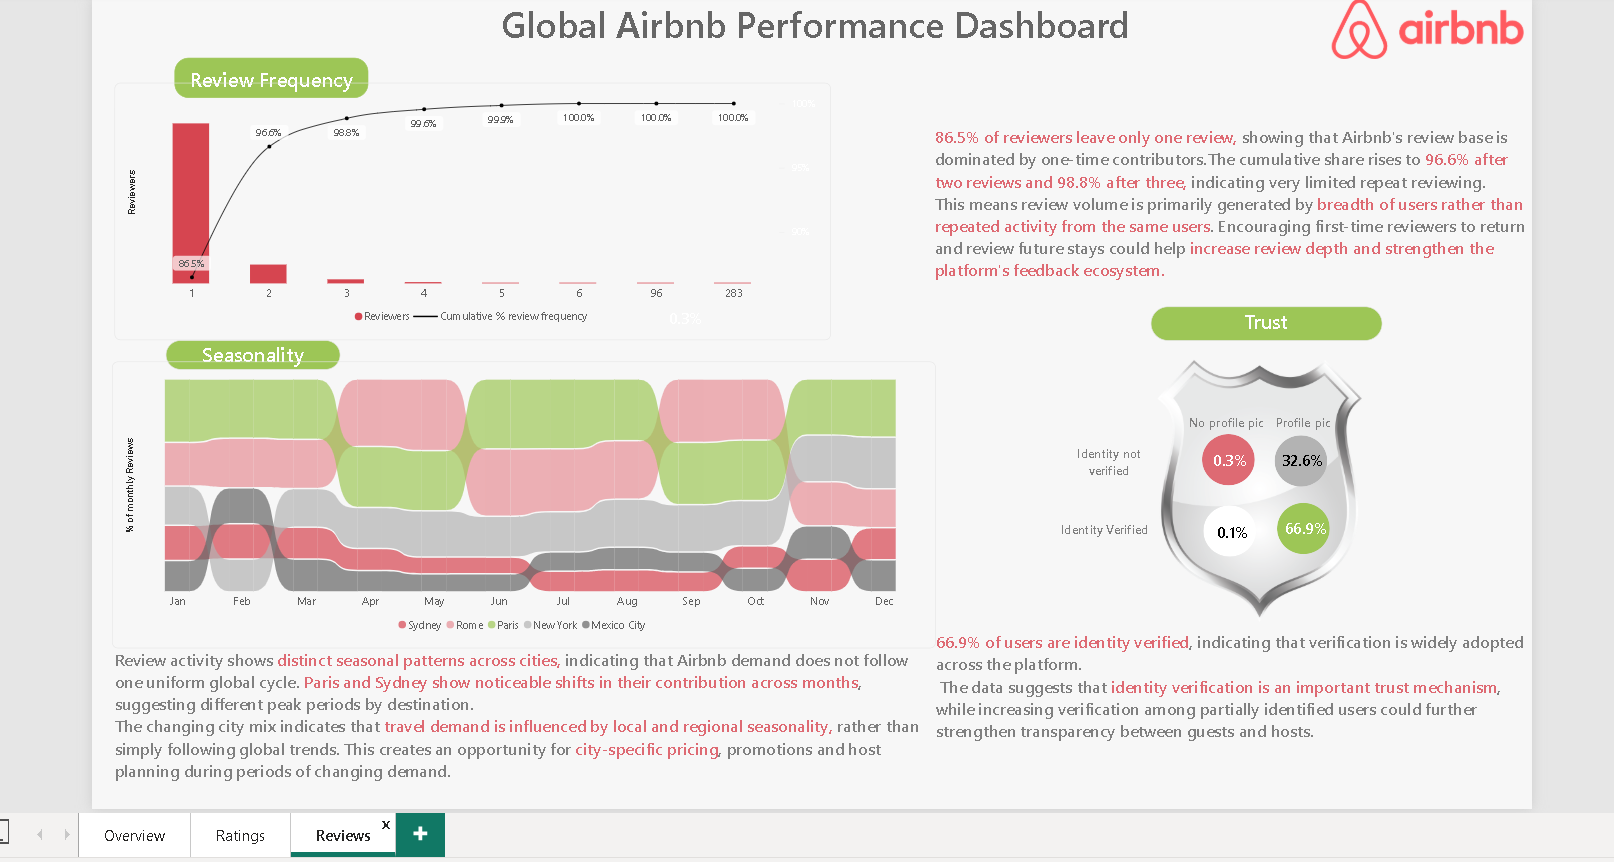

What the dashboard file says about the page in this screenshot:
{"tool":"powerbi","page":{"name":"Reviews","canvas":[1920,1080],"ordinal":2},"visuals":[{"type":"textbox","box":[10,0,1909,79],"z":0},{"type":"group","id":"g1","title":"Group 2","box":[1470.4,580.4,91.6,68.6],"z":0,"group":"g7"},{"type":"shape","box":[1478.6,580.4,70.5,68.6],"z":0,"group":"g1"},{"type":"group","id":"g2","title":"Group 1","box":[1411,409.8,308.8,45.6],"z":500},{"type":"cardVisual","fields":{"Data":["Listings.NotVerified_noprofile%"]},"box":[751.1,394.4,78.9,60.1],"z":1000},{"type":"textbox","box":[1411,409.8,308.8,45.6],"z":1000,"group":"g2"},{"type":"textbox","box":[98.3,455,233.2,39],"z":1000,"group":"g6"},{"type":"cardVisual","fields":{"Data":["Listings.NotVerified_noprofile%"]},"box":[1470.4,581.5,91.6,67.5],"z":1000,"group":"g1"},{"type":"group","id":"g3","title":"Group 3","box":[1555.6,581.6,114.8,68.6],"z":1000,"group":"g7"},{"type":"textbox","box":[110,78.3,258.3,53.3],"z":2000},{"type":"group","id":"g4","title":"Group 4","box":[1564.6,672.7,103.2,68.6],"z":2000,"group":"g7"},{"type":"group","id":"g5","title":"Group 5","box":[1473,675.2,91.6,68.6],"z":3000,"group":"g7"},{"type":"lineStackedColumnComboChart","fields":{"Category":["Reviews.Reviews per reviewer"],"Y":["Reviews.Reviewers"],"Y2":["Reviews.Cumulative % review frequency"]},"box":[30,111.7,955,343.3],"z":4000},{"type":"shape","box":[1479.5,675.2,70.5,68.6],"z":9000,"group":"g5"},{"type":"group","id":"g6","title":"Group 1","box":[98.3,455,231.7,40],"z":11000},{"type":"ribbonChart","fields":{"Category":["Reviews.Review Month"],"Series":["Listings.city"],"Y":["Reviews.% of monthly Reviews"]},"box":[26.7,483.3,1098,382],"z":12000},{"type":"cardVisual","fields":{"Data":["Listings.Verified_noprofile%"]},"box":[1473,676.4,91.6,67.5],"z":12000,"group":"g5"},{"type":"shape","box":[1577.5,672.7,70.5,68.6],"z":12500,"group":"g4"},{"type":"image","box":[1642,0,278,80],"z":13000},{"type":"cardVisual","fields":{"Data":["Listings.Verified_profile%"]},"box":[1564.6,672.7,103.2,67.3],"z":13000,"group":"g4"},{"type":"image","box":[1249.4,390.6,613.6,531.7],"z":13031,"group":"g8"},{"type":"textbox","box":[1555,552.1,119.2,27.5],"z":13062,"group":"g8"},{"type":"textbox","box":[1446.3,552.1,132.4,26.1],"z":13125,"group":"g8"},{"type":"textbox","box":[1273.7,695.4,150.1,48.1],"z":13250,"group":"g8"},{"type":"textbox","box":[1293.8,593.8,122.1,52.2],"z":13500,"group":"g8"},{"type":"group","id":"g7","title":"Group 6","box":[1470.4,580.4,200,163.3],"z":14000,"group":"g8"},{"type":"shape","box":[1575,581.6,70.5,68.6],"z":14000,"group":"g3"},{"type":"group","id":"g8","title":"Group 7","box":[1249.4,390.6,613.6,531.7],"z":14001},{"type":"textbox","box":[1123.3,168.3,795,226.7],"z":14002},{"type":"textbox","box":[1125,841.7,795,238.3],"z":14003},{"type":"textbox","box":[30,865,1095,215],"z":14004},{"type":"cardVisual","fields":{"Data":["Listings.NotVerified_profile%"]},"box":[1555.6,581.6,114.8,67.3],"z":15000,"group":"g3"}]}

Visuals, with their boxes on the page's 1920x1080 design canvas (x1, y1, x2, y2). These are canvas units, not pixel positions in the 1614x862 screenshot, which may show the page scaled, cropped or inside an application window:
textbox: 10/0/1919/79
"Group 2" group: 1470/580/1562/649
shape: 1479/580/1549/649
"Group 1" group: 1411/410/1720/455
cardVisual - Listings.NotVerified_noprofile%: 751/394/830/454
textbox: 1411/410/1720/455
textbox: 98/455/332/494
cardVisual - Listings.NotVerified_noprofile%: 1470/582/1562/649
"Group 3" group: 1556/582/1670/650
textbox: 110/78/368/132
"Group 4" group: 1565/673/1668/741
"Group 5" group: 1473/675/1565/744
lineStackedColumnComboChart - Reviews.Reviews per reviewer x Reviews.Reviewers: 30/112/985/455
shape: 1480/675/1550/744
"Group 1" group: 98/455/330/495
ribbonChart - Reviews.Review Month x Listings.city: 27/483/1125/865
cardVisual - Listings.Verified_noprofile%: 1473/676/1565/744
shape: 1578/673/1648/741
image: 1642/0/1920/80
cardVisual - Listings.Verified_profile%: 1565/673/1668/740
image: 1249/391/1863/922
textbox: 1555/552/1674/580
textbox: 1446/552/1579/578
textbox: 1274/695/1424/744
textbox: 1294/594/1416/646
"Group 6" group: 1470/580/1670/744
shape: 1575/582/1646/650
"Group 7" group: 1249/391/1863/922
textbox: 1123/168/1918/395
textbox: 1125/842/1920/1080
textbox: 30/865/1125/1080
cardVisual - Listings.NotVerified_profile%: 1556/582/1670/649
